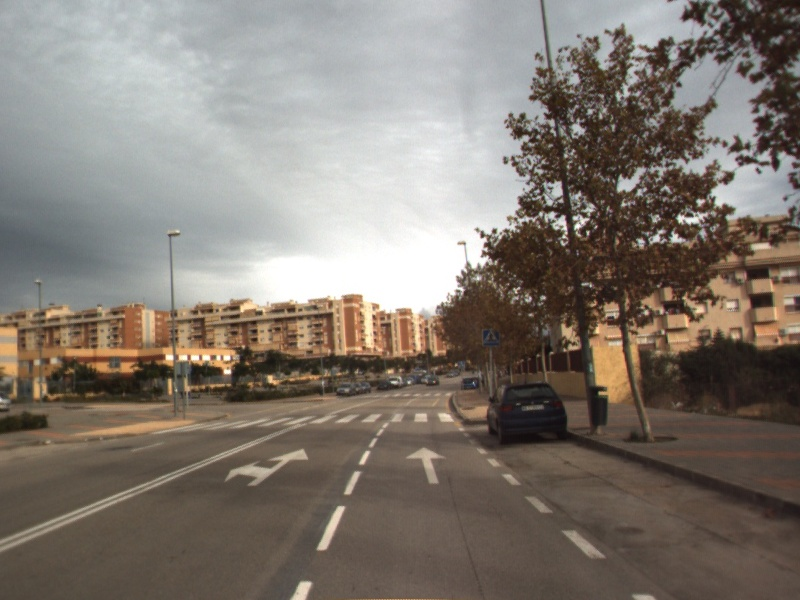STRAIGHT: (404, 444, 448, 485)
STRAIGHT_LEFT: (222, 446, 310, 488)
